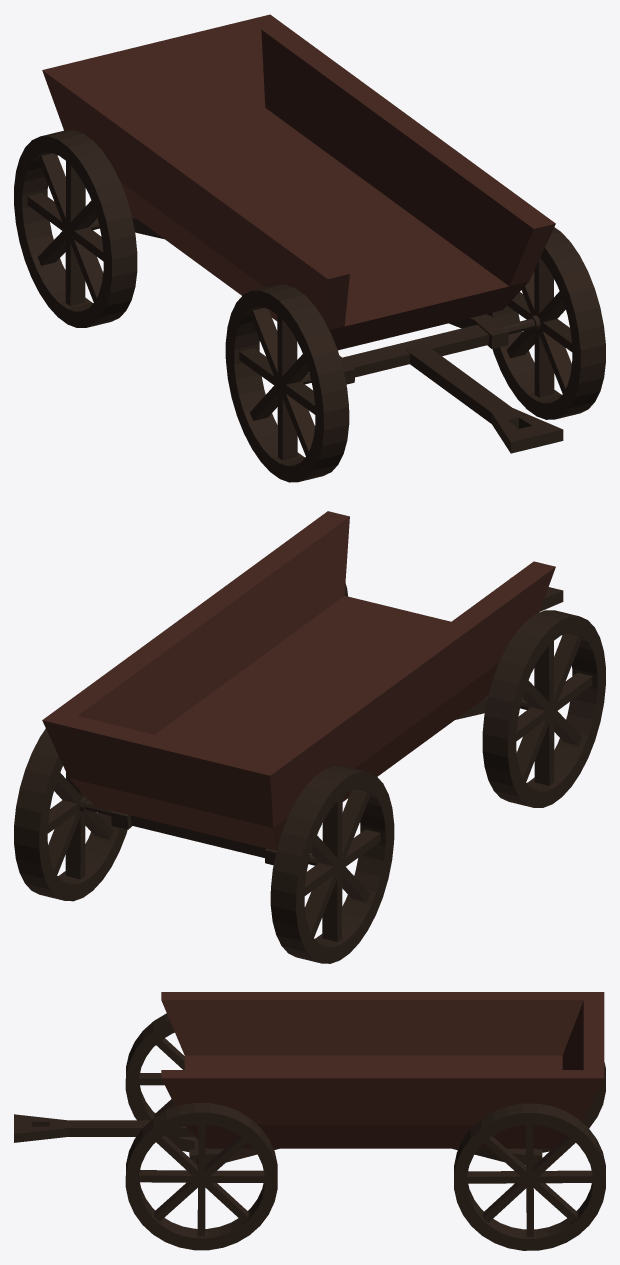
The model's file is wagon.fbx.
3 views of the same model, one above another, from view 1: azimuth 30°, elevation 25°; view 2: azimuth 150°, elevation 25°; view 3: azimuth 270°, elevation 25° (orthographic). The views are drawn at different scales.
Visible parts, largest first — view 1: Boat, Front_Right_Wheel, Back_Right_Wheel, Front_Left_Wheel, Tongue, Front_Steer_Rig; view 2: Boat, Back_Right_Wheel, Front_Right_Wheel, Back_Left_Wheel, Back_Steer_Rig; view 3: Boat, Front_Left_Wheel, Back_Left_Wheel, Front_Right_Wheel, Tongue, Front_Steer_Rig, Back_Right_Wheel, Back_Steer_Rig.
Boxes of the visible parts, left/top/right/bottom form: Boat: left=42, top=14, right=555, bottom=350; Front_Right_Wheel: left=225, top=284, right=349, bottom=482; Back_Right_Wheel: left=14, top=130, right=137, bottom=327; Front_Left_Wheel: left=486, top=227, right=605, bottom=419; Tongue: left=405, top=344, right=563, bottom=453; Front_Steer_Rig: left=339, top=314, right=508, bottom=384; Boat: left=42, top=511, right=555, bottom=850; Back_Right_Wheel: left=270, top=765, right=394, bottom=963; Front_Right_Wheel: left=482, top=610, right=605, bottom=807; Back_Left_Wheel: left=14, top=728, right=127, bottom=901; Back_Steer_Rig: left=111, top=811, right=276, bottom=865; Boat: left=161, top=992, right=604, bottom=1148; Front_Left_Wheel: left=125, top=1103, right=277, bottom=1250; Back_Left_Wheel: left=454, top=1103, right=605, bottom=1250; Front_Right_Wheel: left=125, top=1013, right=194, bottom=1151; Tongue: left=14, top=1114, right=194, bottom=1142; Front_Steer_Rig: left=189, top=1136, right=279, bottom=1164; Back_Right_Wheel: left=537, top=1062, right=605, bottom=1152; Back_Steer_Rig: left=452, top=1148, right=542, bottom=1165.
Bounding box in the file's own units: 1620 × 1149 × 3800.
